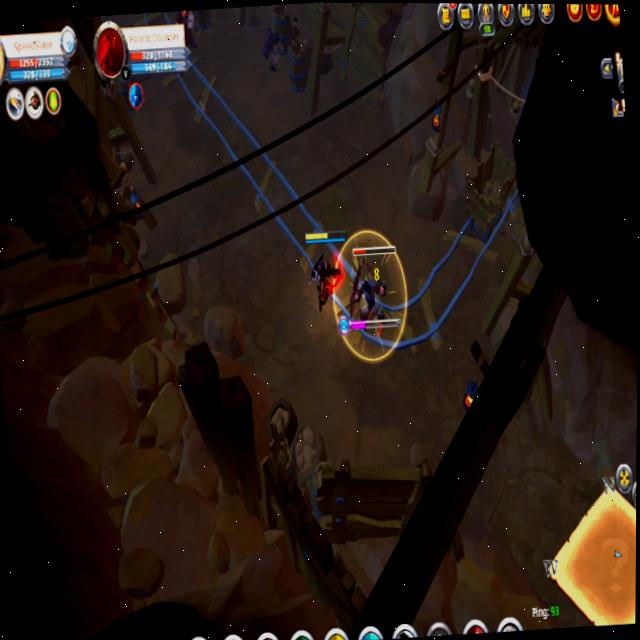ore: (339, 236, 403, 351), (257, 24, 285, 84), (171, 9, 199, 47)
red: (300, 226, 348, 317)
